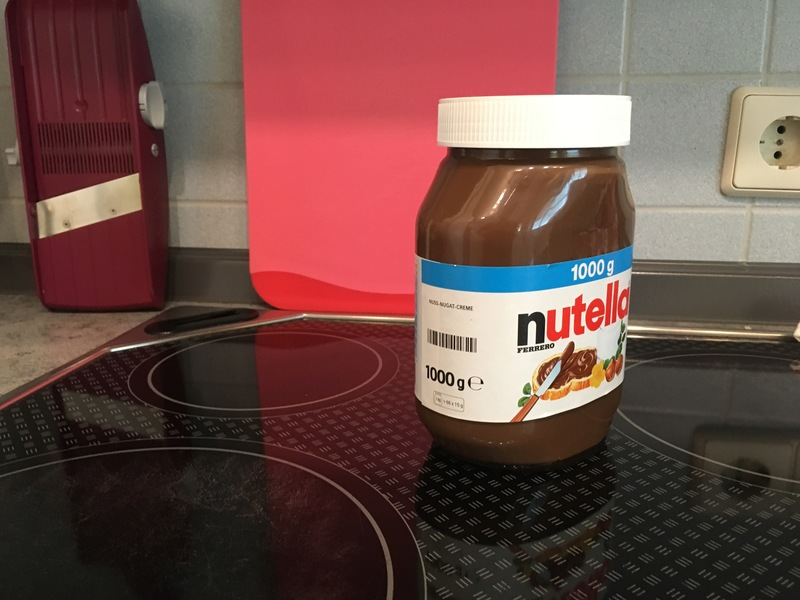nutella: (414, 94, 636, 470)
